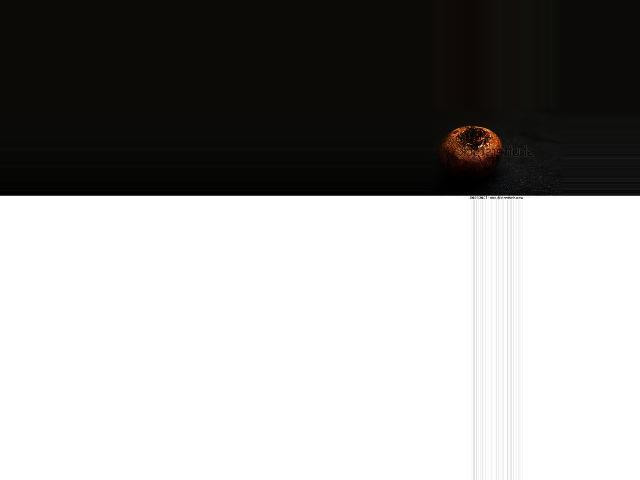beet: (436, 126, 501, 182)
